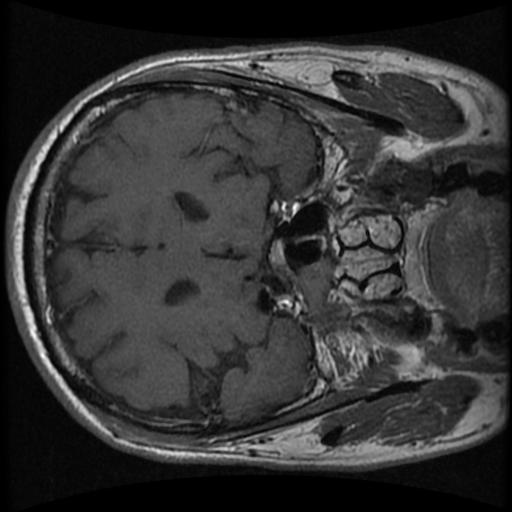pituitary tumour: (269, 239, 285, 267)
